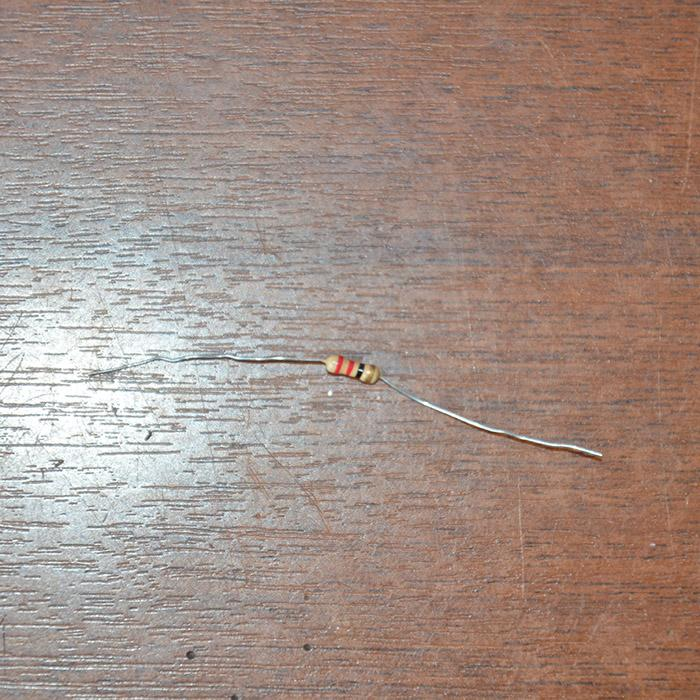resistor: (324, 353, 381, 384)
